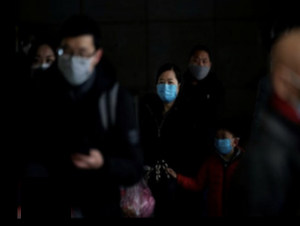with_mask: (58, 43, 96, 85), (155, 75, 179, 102), (188, 54, 211, 81), (215, 131, 233, 154)
